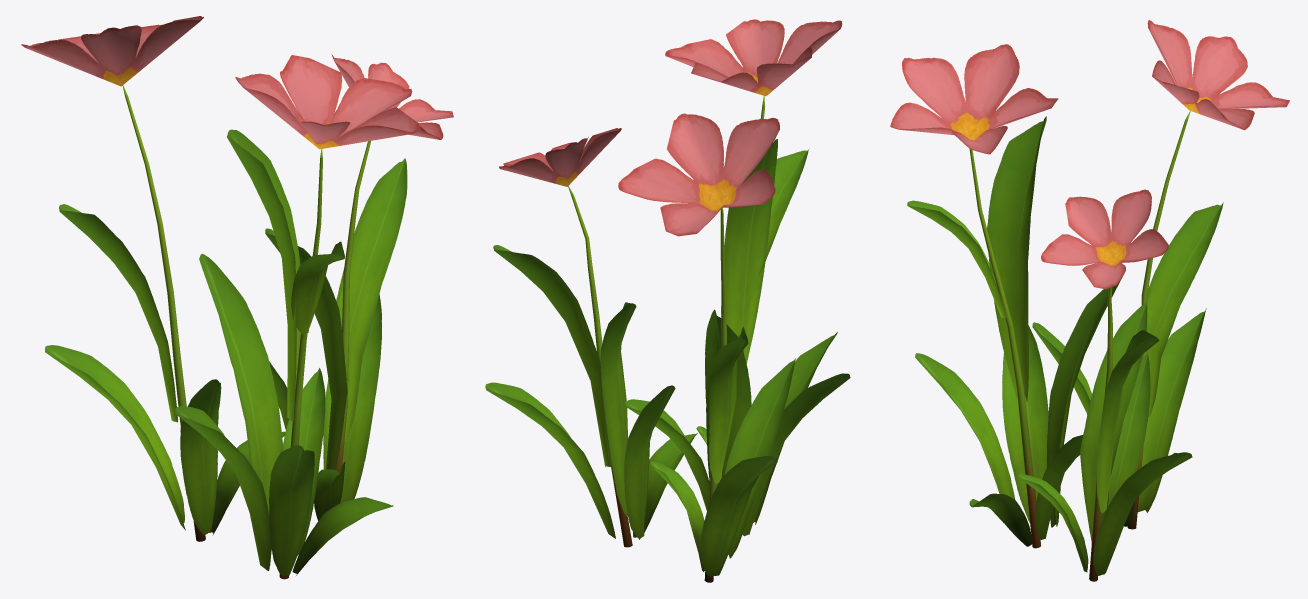
Rendered from Flower_3_Group.gltf.
3 renders of one model, left to right at view 1: azimuth 30°, elevation 25°; view 2: azimuth 150°, elevation 25°; view 3: azimuth 270°, elevation 25°, orthographic. The views are drawn at different scales.
Visible parts, largest first — view 1: Flower_3_Group; view 2: Flower_3_Group; view 3: Flower_3_Group.
Boxes of the visible parts, x1,y1,x2,y2 form: Flower_3_Group: [21, 16, 453, 579]; Flower_3_Group: [485, 19, 850, 582]; Flower_3_Group: [890, 20, 1289, 581].
Bounding box in the file's own units: 1.49 × 2.05 × 1.59.
2 materials, 2 textured.
